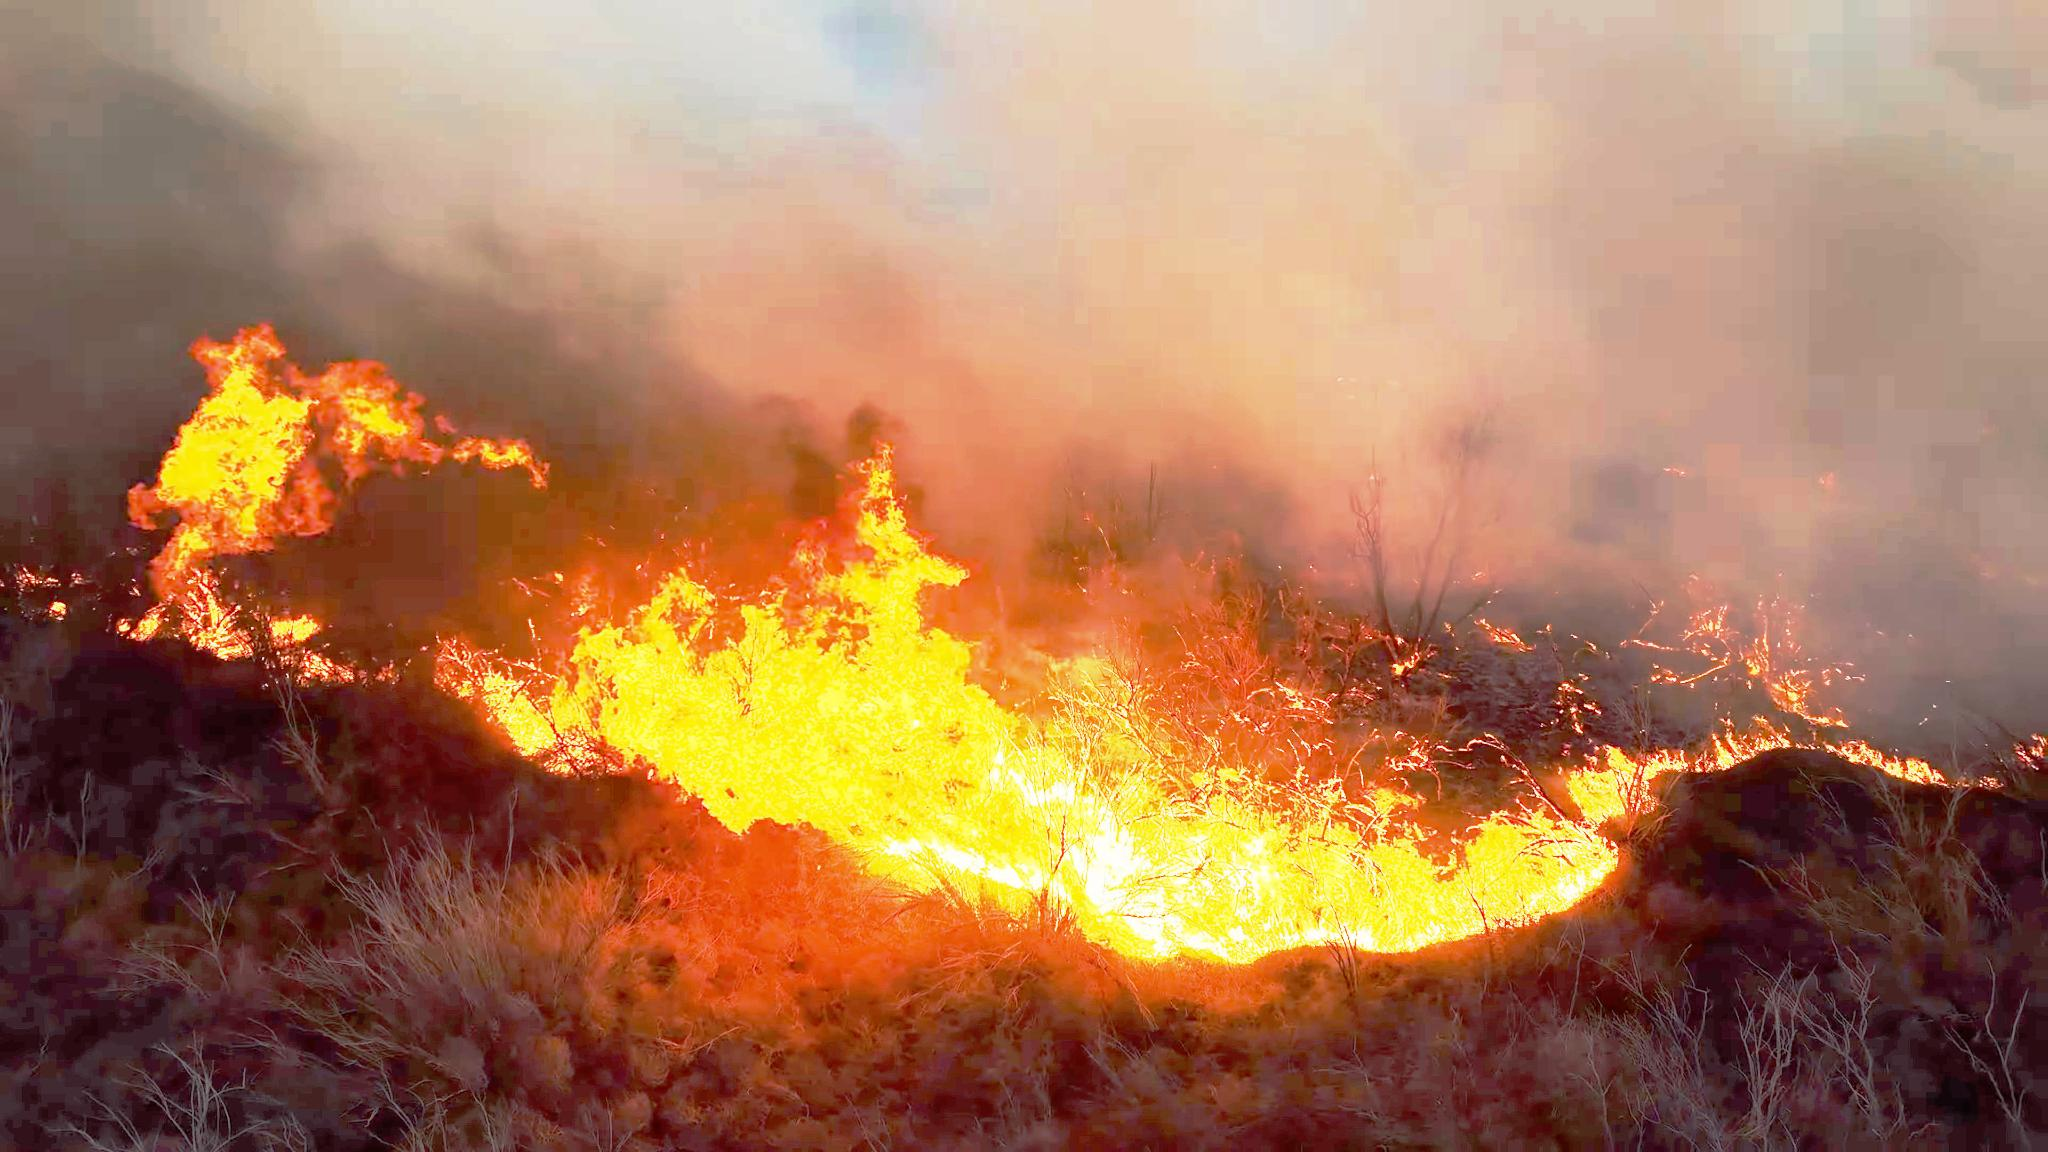fire: (499, 442, 992, 805), (910, 675, 1342, 945), (1291, 726, 1626, 962), (134, 312, 402, 570)
smoke: (0, 0, 533, 243)
